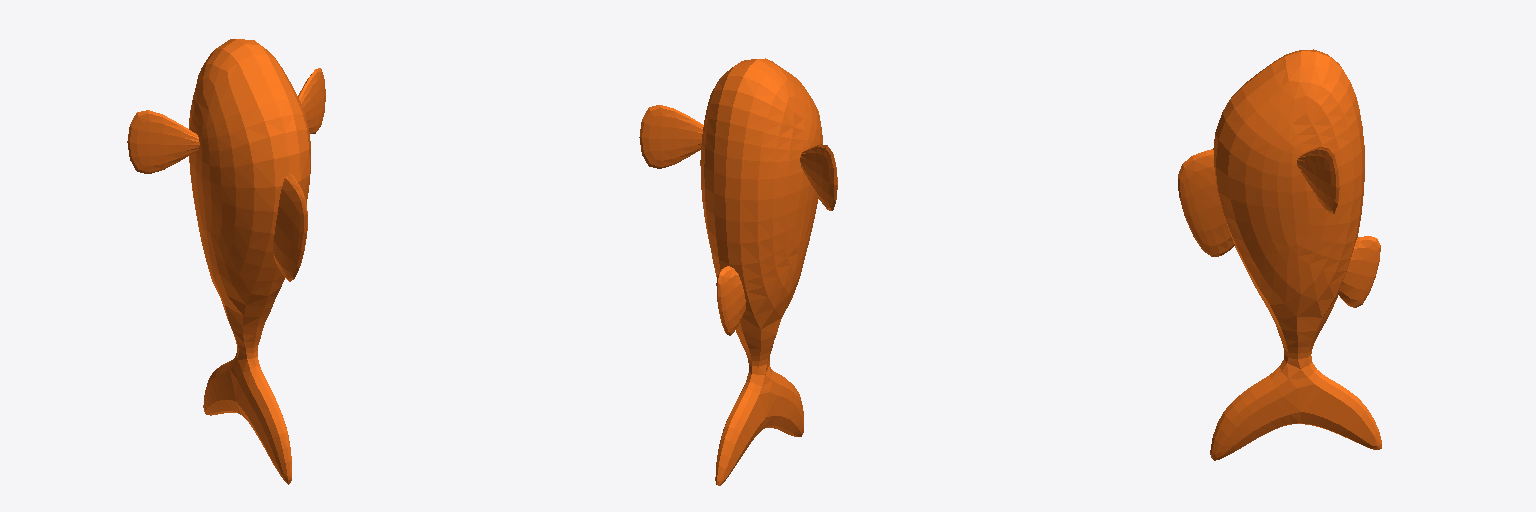
The picture shows the model from 3 angles: view 1: azimuth 30°, elevation 25°; view 2: azimuth 150°, elevation 25°; view 3: azimuth 270°, elevation 25°; orthographic projection.
Visible parts, largest first — view 1: Object.1; view 2: Object.1; view 3: Object.1.
Part boxes in pixels (x1,y1,x2,y2): Object.1: (127, 39, 325, 484); Object.1: (639, 58, 837, 485); Object.1: (1178, 49, 1381, 460).
Size of the model in its own units: 88.19 by 174 by 79.09.
Materials: 1 (1 with a texture image).